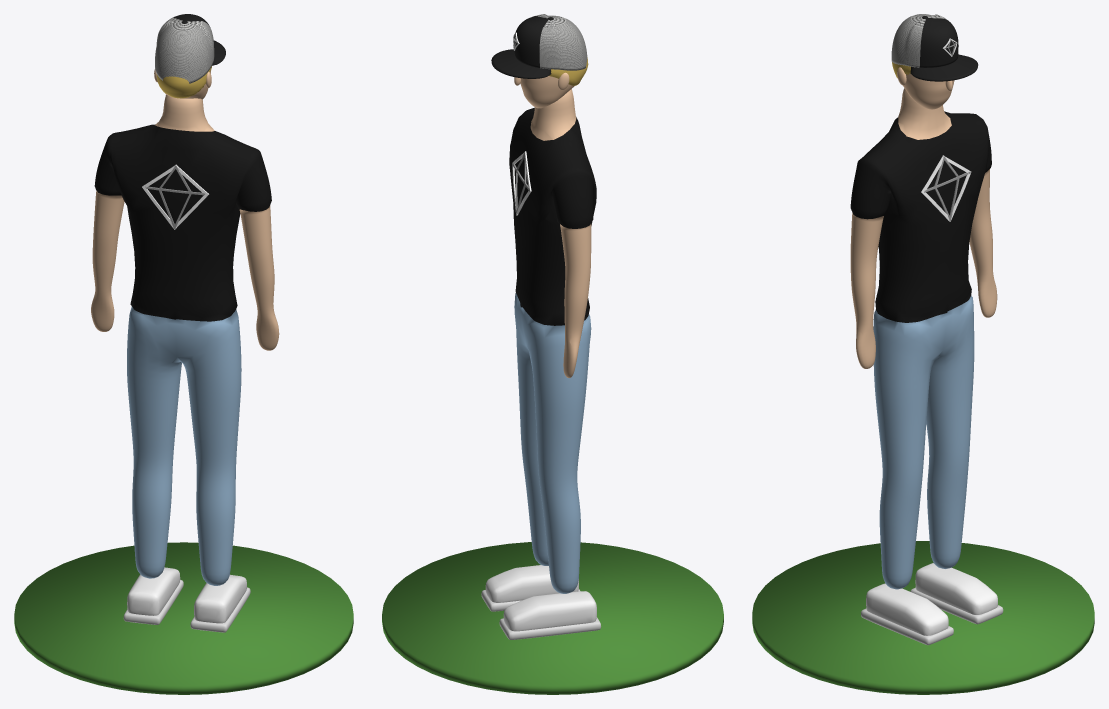
The model's file is scale-figure.glb.
3 renders of one model, left to right at view 1: azimuth 30°, elevation 25°; view 2: azimuth 150°, elevation 25°; view 3: azimuth 270°, elevation 25°, orthographic.
Parts seen in each view (by area): view 1: Body, Grass, Cap, ShoeL, ShoeR, Hair, SoleL, SoleR; view 2: Grass, Body, Cap, ShoeR, ShoeL, Head, CapBill, SoleR; view 3: Body, Grass, Cap, ShoeL, ShoeR, Head, CapBill, SoleL, SoleR.
Boxes of the visible parts, box(x1,y1,x2,y2) form: Body: box(91, 95, 279, 585); Grass: box(14, 542, 353, 694); Cap: box(155, 14, 214, 83); ShoeL: box(194, 574, 246, 623); ShoeR: box(127, 567, 180, 615); Hair: box(156, 66, 211, 98); SoleL: box(190, 587, 250, 632); SoleR: box(123, 579, 183, 624); Grass: box(382, 542, 723, 694); Body: box(509, 89, 596, 593); Cap: box(514, 14, 587, 70); ShoeR: box(503, 591, 596, 631); ShoeL: box(485, 565, 578, 602); Head: box(520, 76, 574, 108); CapBill: box(491, 49, 551, 78); SoleR: box(499, 617, 601, 639); Body: box(850, 88, 997, 589); Grass: box(752, 541, 1094, 694); Cap: box(891, 14, 958, 67); ShoeL: box(866, 583, 948, 635); ShoeR: box(915, 563, 997, 614); Head: box(903, 73, 954, 109); CapBill: box(910, 54, 978, 81); SoleL: box(861, 608, 953, 645); SoleR: box(910, 587, 1003, 624).
Bounding box in the file's own units: 1 × 1.96 × 1.
Materials: 12 (1 with a texture image).
